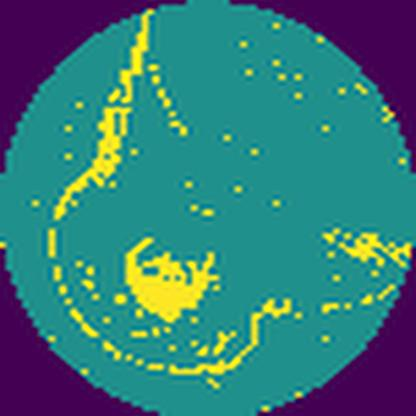Loc: (128, 236, 221, 324), (319, 231, 408, 271)
